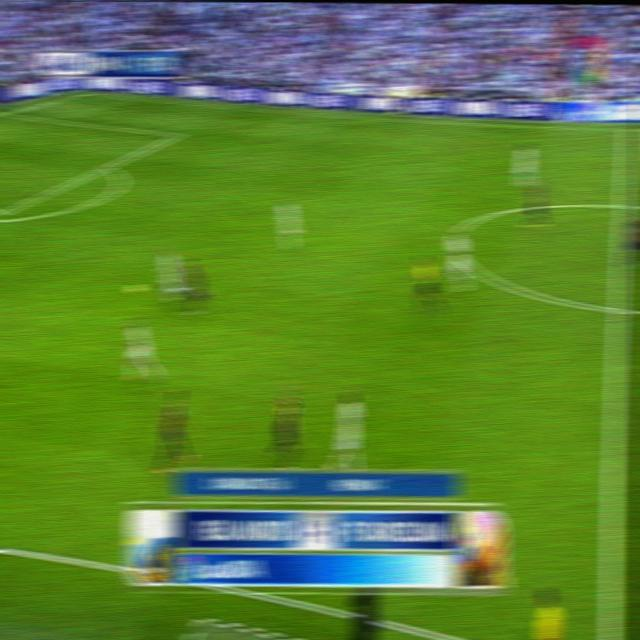bigarea_bottom_inner: (493, 578, 510, 602)
bigarea_bottom_outter: (101, 159, 114, 174)
halfcircle_bottom: (608, 293, 629, 327)
halfcircle_top: (613, 191, 634, 219)
midline_top_intersection: (619, 122, 636, 138)
